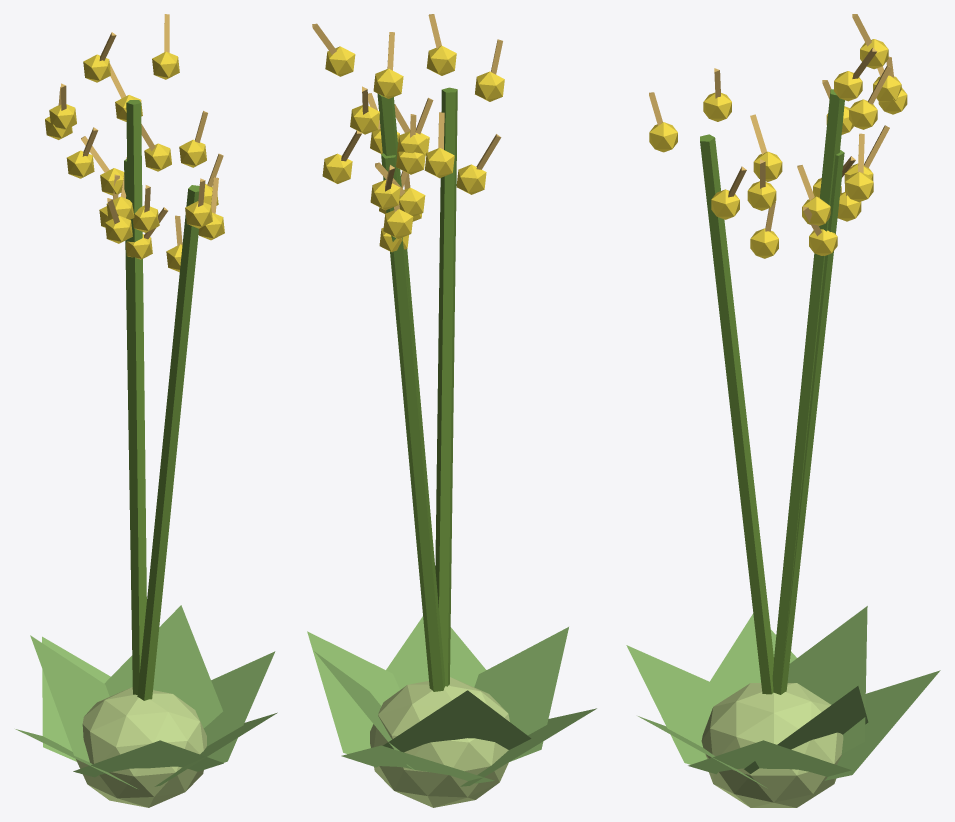
File: cabbage_bolt.glb
The picture shows the model from 3 angles, left to right: view 1: azimuth 30°, elevation 25°; view 2: azimuth 150°, elevation 25°; view 3: azimuth 270°, elevation 25°; orthographic projection. The views are drawn at different scales.
Visible parts, largest first — view 1: cabbage; view 2: cabbage; view 3: cabbage.
Part boxes in pixels (x1=…): cabbage: x1=15, y1=14, x2=277, y2=807; cabbage: x1=307, y1=14, x2=596, y2=807; cabbage: x1=626, y1=14, x2=940, y2=807.
Size of the model in its own units: 0.3521 by 0.9358 by 0.336.
